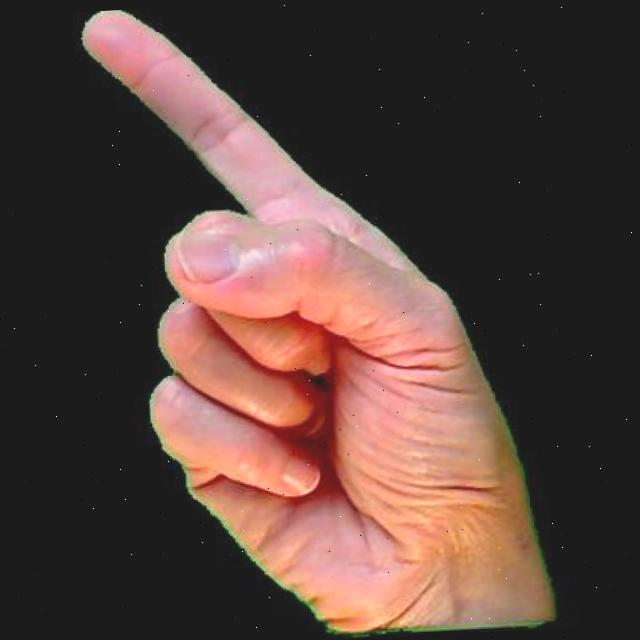z: (59, 0, 578, 640)
